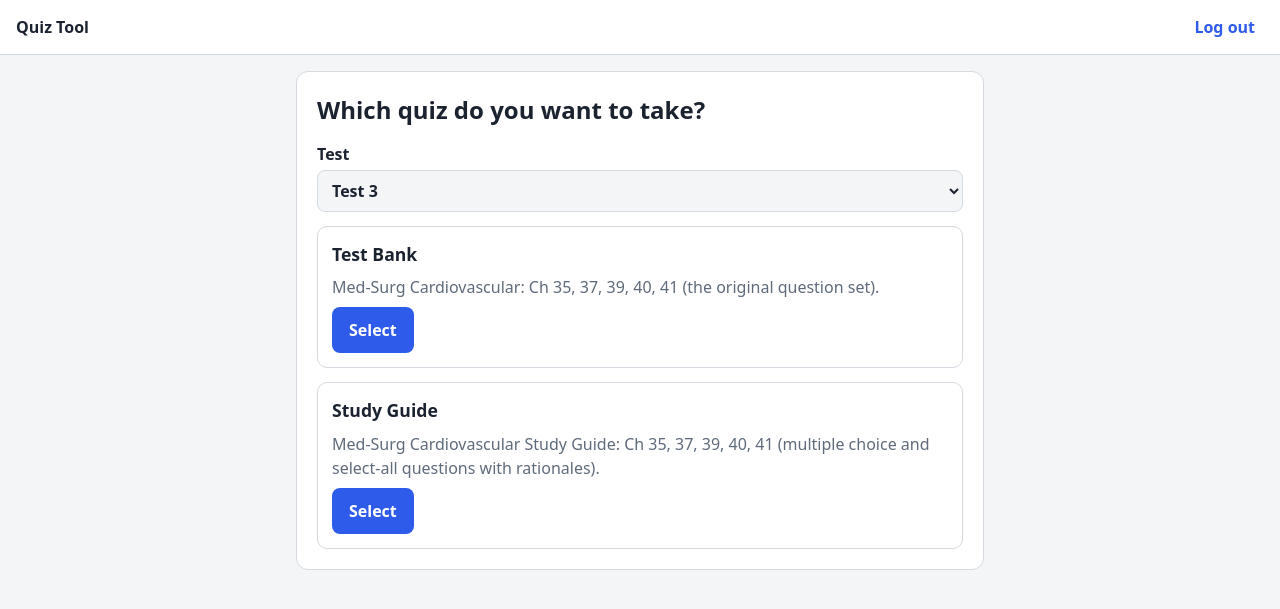
Test: offers both quizzes and loads the chosen file
Check: the heading "Which quiz do you want to take?" is shown, box [317,93,705,126]
Click the link with aria-label "Take the Study Guide quiz" at [373, 511], box [332,488,414,534]
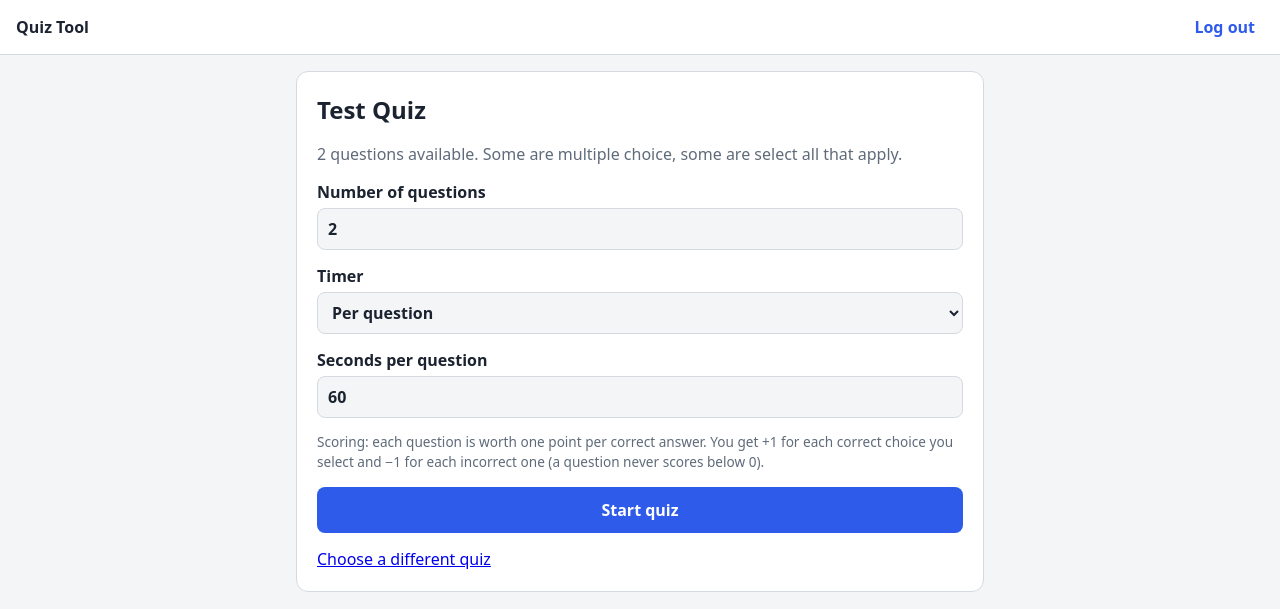
Check: the heading "Test Quiz" is shown, box [317,93,426,126]
